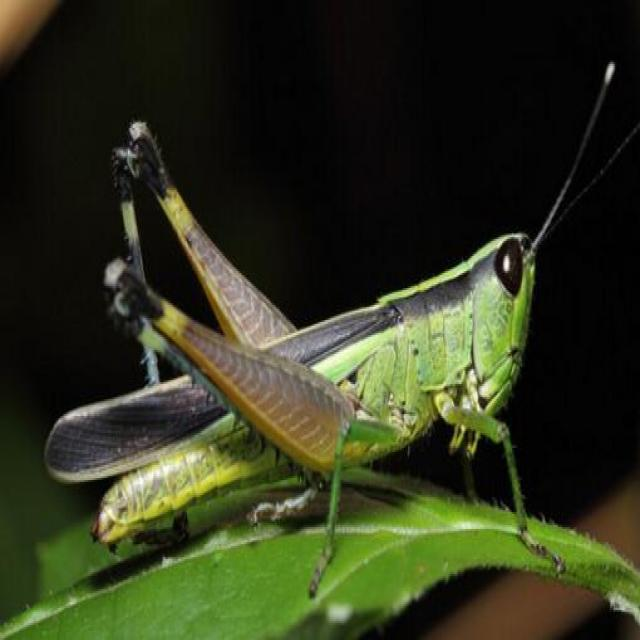ZhaMeng: (36, 116, 571, 542)
